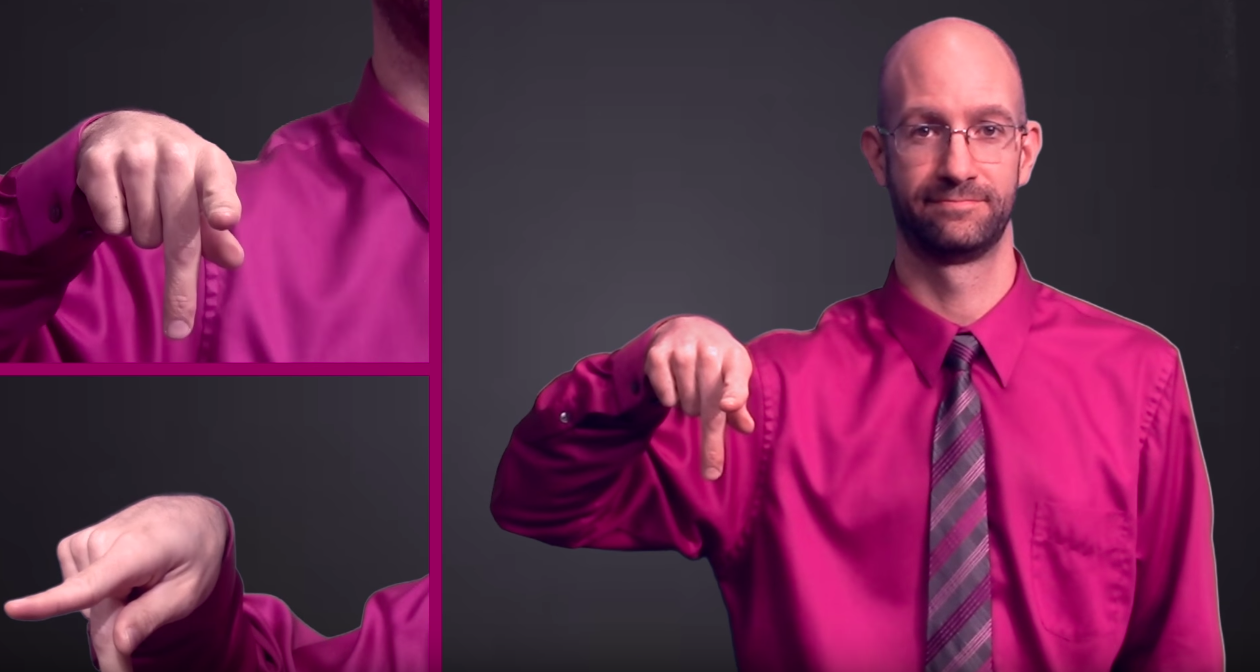p: (68, 95, 257, 353), (1, 479, 249, 657), (631, 301, 779, 493)
